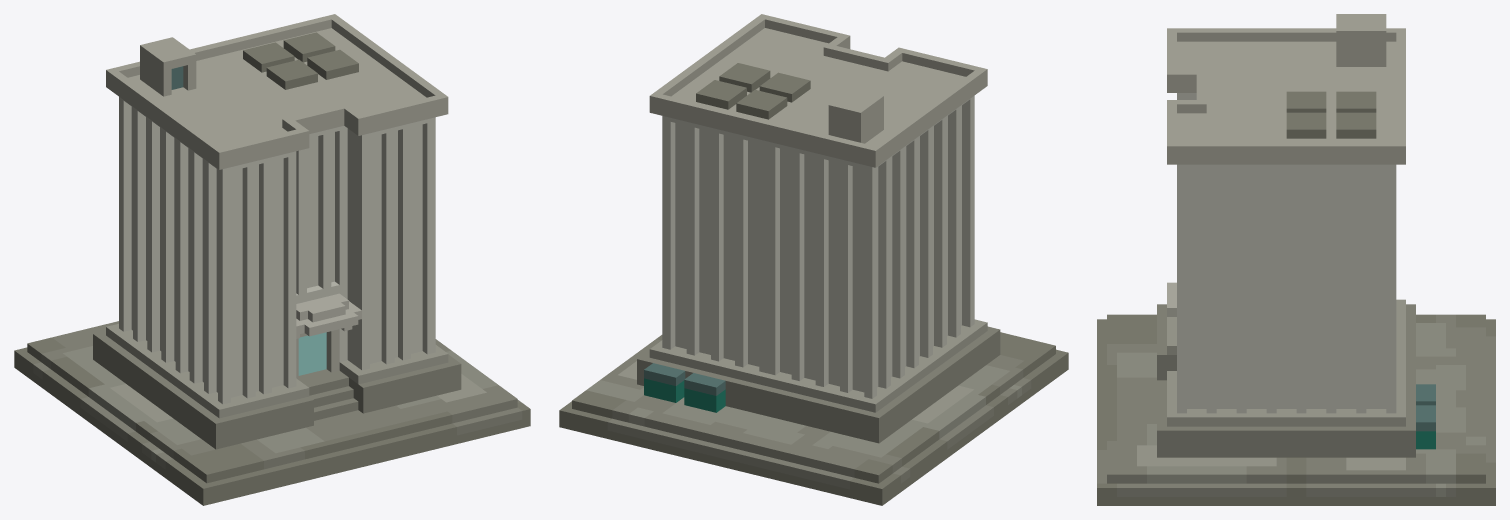
File: Main.obj
The picture shows the model from 3 angles, left to right: view 1: azimuth 30°, elevation 25°; view 2: azimuth 150°, elevation 25°; view 3: azimuth 270°, elevation 25°; orthographic projection. The views are drawn at different scales.
Size of the model in its own units: 4 by 4 by 4.
1 material, 1 textured.
